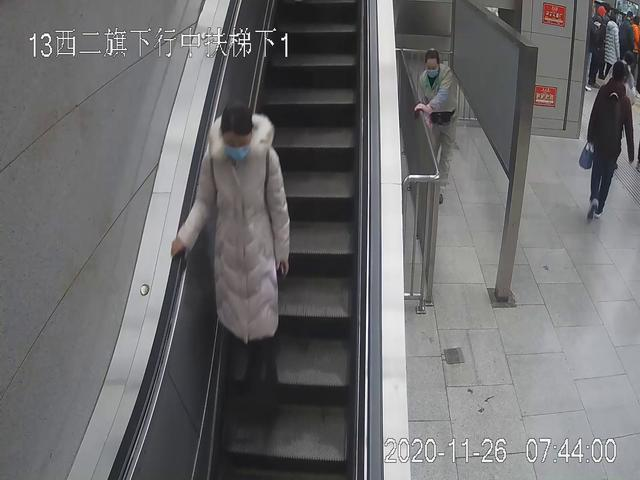person: (171, 104, 290, 420), (582, 60, 639, 220), (415, 48, 459, 208), (605, 15, 627, 82), (590, 4, 605, 88)
